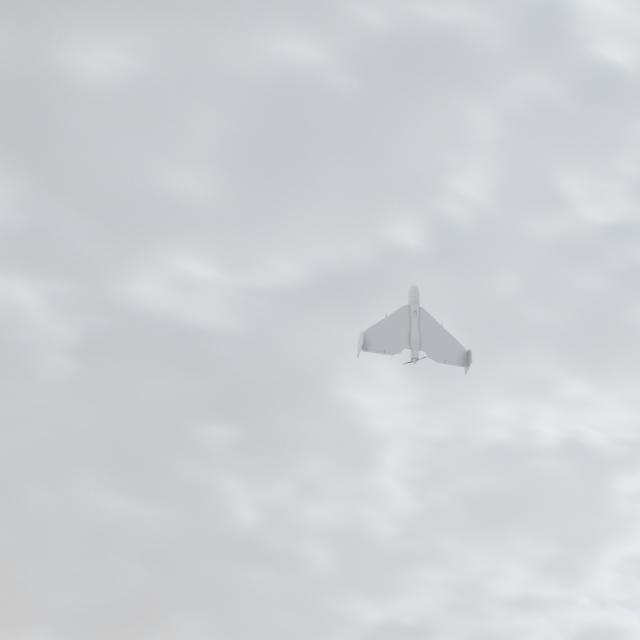Airaplan: (357, 285, 472, 375)
